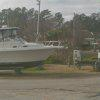Boat: (2, 22, 67, 77)
